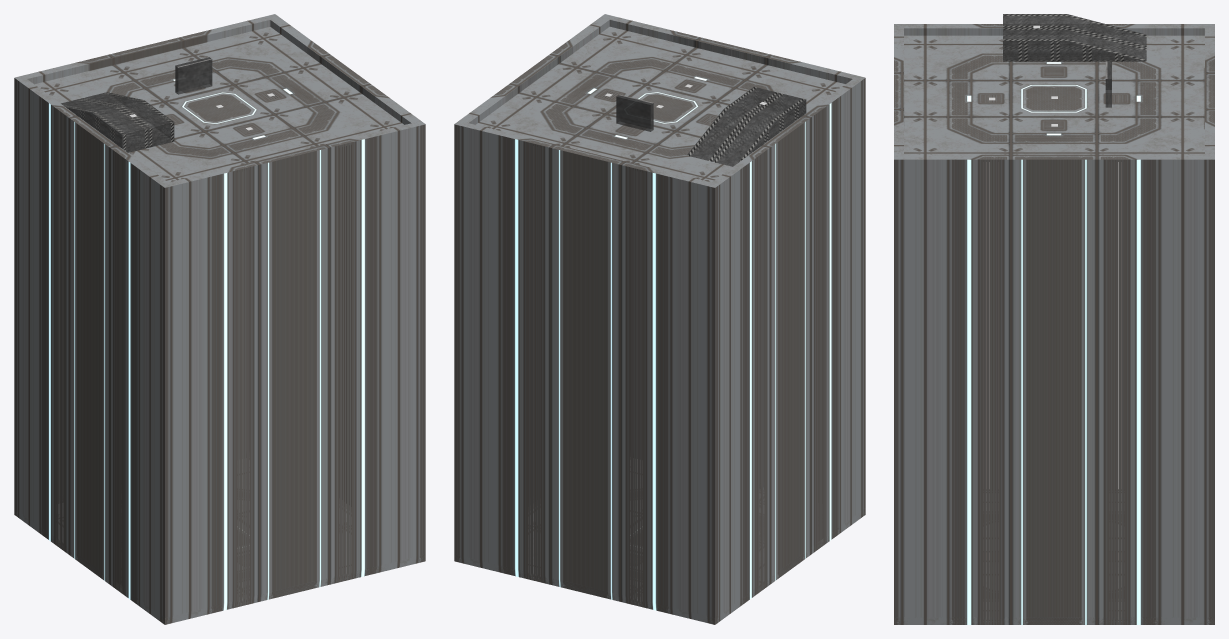
The model's file is level-01.glb.
The picture shows the model from 3 angles, left to right: view 1: azimuth 30°, elevation 25°; view 2: azimuth 150°, elevation 25°; view 3: azimuth 270°, elevation 25°; orthographic projection. The views are drawn at different scales.
Parts seen in each view (by area): view 1: Plane, Cube.007, Cube; view 2: Plane, Cube.007, Cube; view 3: Plane, Cube.007.
Part boxes in pixels (x1,y1,x2,y2): Plane: (14,14,425,624); Cube.007: (61,92,174,152); Cube: (175,57,212,94); Plane: (454,14,865,624); Cube.007: (687,87,806,166); Cube: (616,94,653,131); Plane: (894,24,1214,624); Cube.007: (1003,14,1146,61).
Size of the model in its own units: 100 by 167 by 100.
3 materials, 3 textured.
